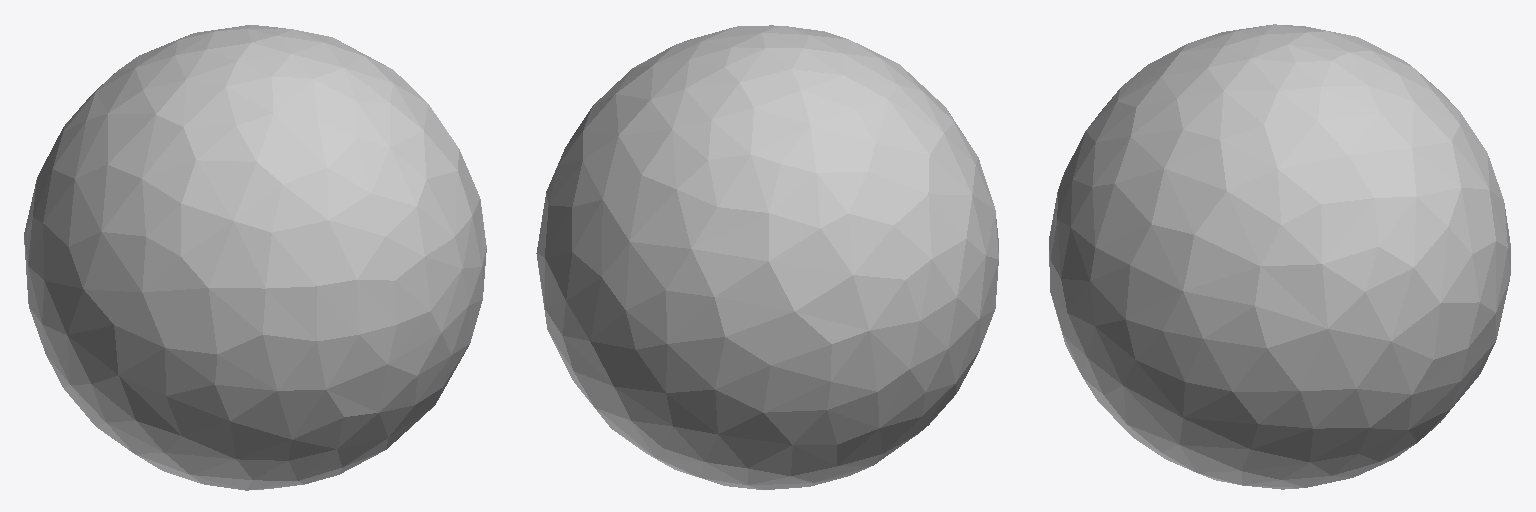
File: WaterMelon.obj
The picture shows the model from 3 angles: view 1: azimuth 30°, elevation 25°; view 2: azimuth 150°, elevation 25°; view 3: azimuth 270°, elevation 25°; orthographic projection.
Visible parts, largest first — view 1: Watermelon; view 2: Watermelon; view 3: Watermelon.
Boxes of the visible parts, x1=… form: Watermelon: x1=24, y1=25, x2=486, y2=490; Watermelon: x1=536, y1=25, x2=998, y2=489; Watermelon: x1=1049, y1=24, x2=1510, y2=489.
Size of the model in its own units: 0.7994 by 0.8038 by 0.7995.